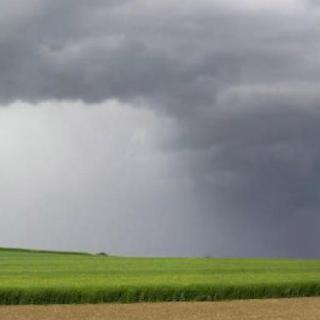Nimbostratus: (0, 1, 320, 270)
